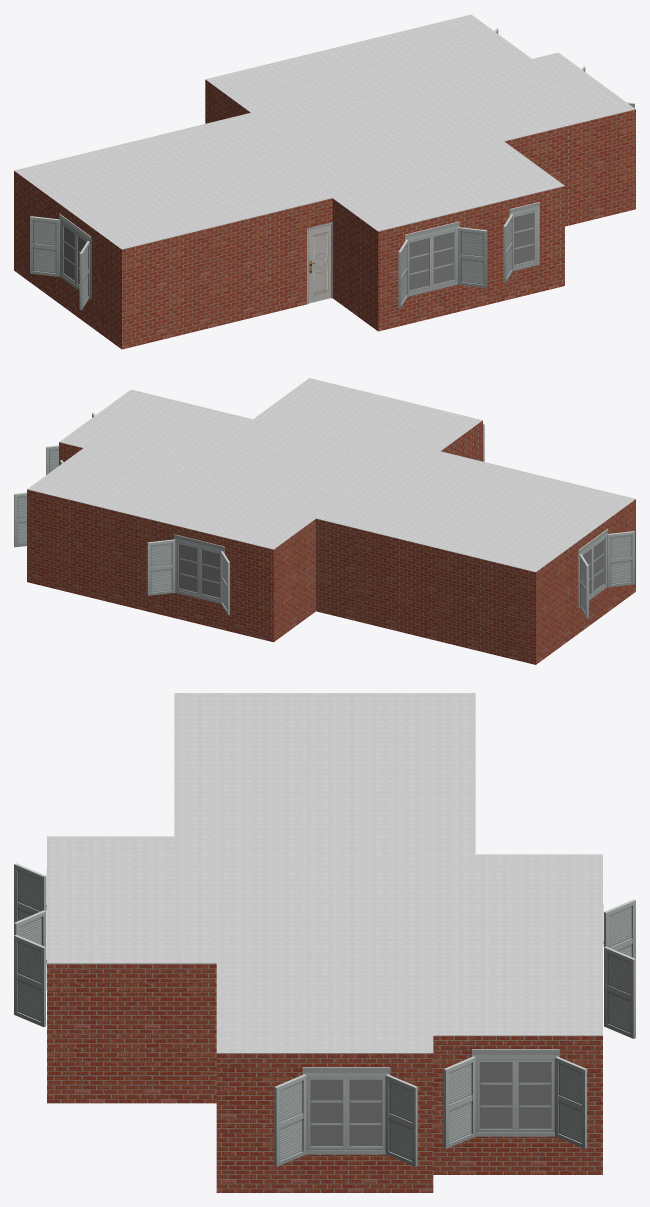
Rendered from house_0120200.FBX.
The picture shows the model from 3 angles, top to bottom: view 1: azimuth 30°, elevation 25°; view 2: azimuth 150°, elevation 25°; view 3: azimuth 270°, elevation 25°; orthographic projection. The views are drawn at different scales.
Visible parts, largest first — view 1: house_0120200_roof_100_00, house_0120200_outwall_100_00, house_0120200_outwall_100_02, house_0120200_outwall_100_04, house_0120200_outwall_100_11, house_0120200_floor_105_00, house_0120200_outwall_100_01, house_0120200_floor_101_00, house_0120200_floor_106_00, house_0120200_outwall_101_00, house_0120200_tcx_100_02, house_0120200_tcx_100_00 (+3 smaller); view 2: house_0120200_roof_100_00, house_0120200_outwall_100_10, house_0120200_outwall_100_08, house_0120200_outwall_100_11, house_0120200_floor_102_00, house_0120200_outwall_100_09, house_0120200_floor_101_00, house_0120200_tcx_100_08, house_0120200_tcx_100_10, house_0120200_outwall_100_01, house_0120200_floor_104_00, house_0120200_tcx_100_11; view 3: house_0120200_roof_100_00, house_0120200_outwall_100_03, house_0120200_outwall_100_05, house_0120200_floor_103_00, house_0120200_floor_104_00, house_0120200_outwall_100_07, house_0120200_floor_102_00, house_0120200_floor_106_00, house_0120200_floor_105_00, house_0120200_tcx_100_05, house_0120200_tcx_100_03, house_0120200_tcx_100_07.
Boxes of the visible parts, x1=… form: house_0120200_roof_100_00: x1=14, y1=14, x2=635, y2=249; house_0120200_outwall_100_00: x1=122, y1=198, x2=332, y2=342; house_0120200_outwall_100_02: x1=378, y1=186, x2=564, y2=324; house_0120200_outwall_100_04: x1=504, y1=109, x2=635, y2=219; house_0120200_outwall_100_11: x1=14, y1=171, x2=121, y2=342; house_0120200_floor_105_00: x1=398, y1=221, x2=487, y2=308; house_0120200_outwall_100_01: x1=332, y1=198, x2=378, y2=324; house_0120200_floor_101_00: x1=30, y1=213, x2=91, y2=310; house_0120200_floor_106_00: x1=503, y1=202, x2=539, y2=283; house_0120200_outwall_101_00: x1=307, y1=222, x2=332, y2=304; house_0120200_tcx_100_02: x1=378, y1=279, x2=564, y2=331; house_0120200_tcx_100_00: x1=122, y1=297, x2=306, y2=349; house_0120200_roof_100_00: x1=27, y1=378, x2=635, y2=571; house_0120200_outwall_100_10: x1=316, y1=518, x2=535, y2=658; house_0120200_outwall_100_08: x1=27, y1=489, x2=273, y2=635; house_0120200_outwall_100_11: x1=536, y1=499, x2=635, y2=657; house_0120200_floor_102_00: x1=147, y1=534, x2=229, y2=615; house_0120200_outwall_100_09: x1=273, y1=519, x2=315, y2=635; house_0120200_floor_101_00: x1=578, y1=528, x2=634, y2=618; house_0120200_tcx_100_08: x1=27, y1=576, x2=273, y2=642; house_0120200_tcx_100_10: x1=316, y1=605, x2=535, y2=664; house_0120200_outwall_100_01: x1=441, y1=420, x2=482, y2=461; house_0120200_floor_104_00: x1=14, y1=460, x2=63, y2=547; house_0120200_tcx_100_11: x1=536, y1=585, x2=635, y2=664; house_0120200_roof_100_00: x1=47, y1=693, x2=602, y2=1053; house_0120200_outwall_100_03: x1=47, y1=964, x2=216, y2=1093; house_0120200_outwall_100_05: x1=216, y1=1053, x2=433, y2=1183; house_0120200_floor_103_00: x1=274, y1=1067, x2=417, y2=1166; house_0120200_floor_104_00: x1=443, y1=1049, x2=586, y2=1148; house_0120200_outwall_100_07: x1=433, y1=1035, x2=602, y2=1165; house_0120200_floor_102_00: x1=603, y1=899, x2=635, y2=1038; house_0120200_floor_106_00: x1=14, y1=934, x2=46, y2=1027; house_0120200_floor_105_00: x1=14, y1=863, x2=46, y2=989; house_0120200_tcx_100_05: x1=216, y1=1183, x2=433, y2=1192; house_0120200_tcx_100_03: x1=47, y1=1093, x2=216, y2=1103; house_0120200_tcx_100_07: x1=433, y1=1165, x2=602, y2=1174.
Size of the model in its own units: 1733 by 290 by 1173.
Materials: 62 (62 with a texture image).
